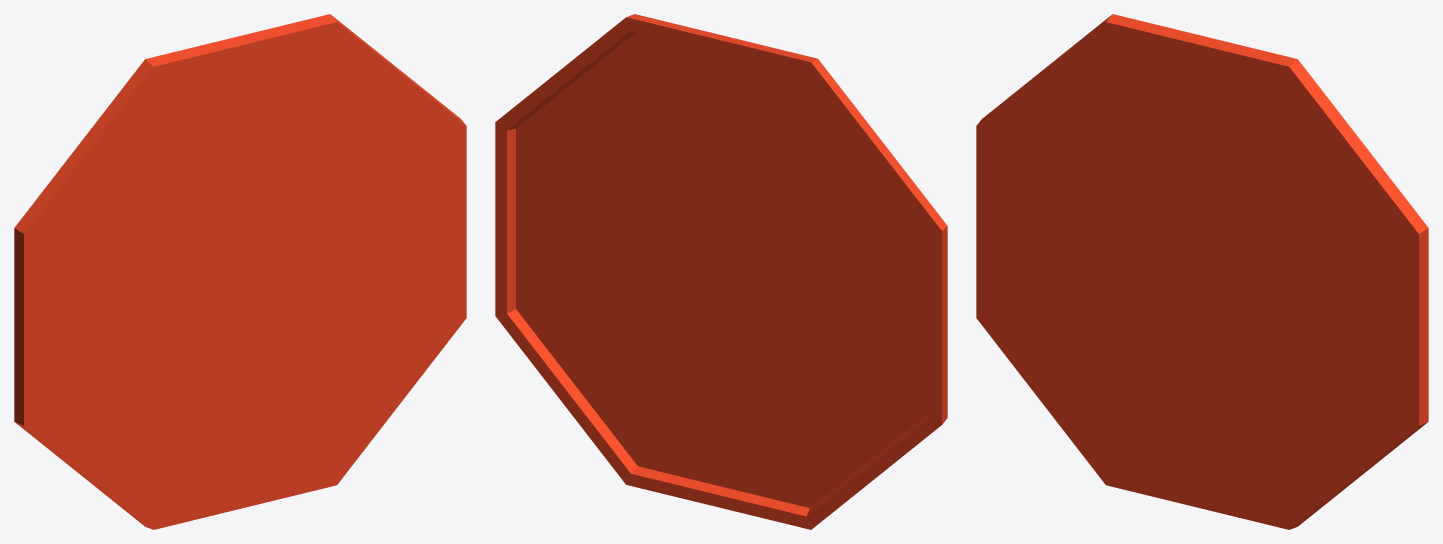
File: SM_Sign_Stop_A_City.fbx
3 views of the same model, side by side, from view 1: azimuth 30°, elevation 25°; view 2: azimuth 150°, elevation 25°; view 3: azimuth 330°, elevation 25° (orthographic).
Visible parts, largest first — view 1: SM_Sign_Stop_A_City; view 2: SM_Sign_Stop_A_City; view 3: SM_Sign_Stop_A_City.
Boxes of the visible parts, left/top/right/bottom form: SM_Sign_Stop_A_City: left=14, top=14, right=466, bottom=529; SM_Sign_Stop_A_City: left=495, top=14, right=947, bottom=529; SM_Sign_Stop_A_City: left=976, top=14, right=1428, bottom=529.
Bounding box in the file's own units: 0.7649 × 0.7649 × 0.023.
